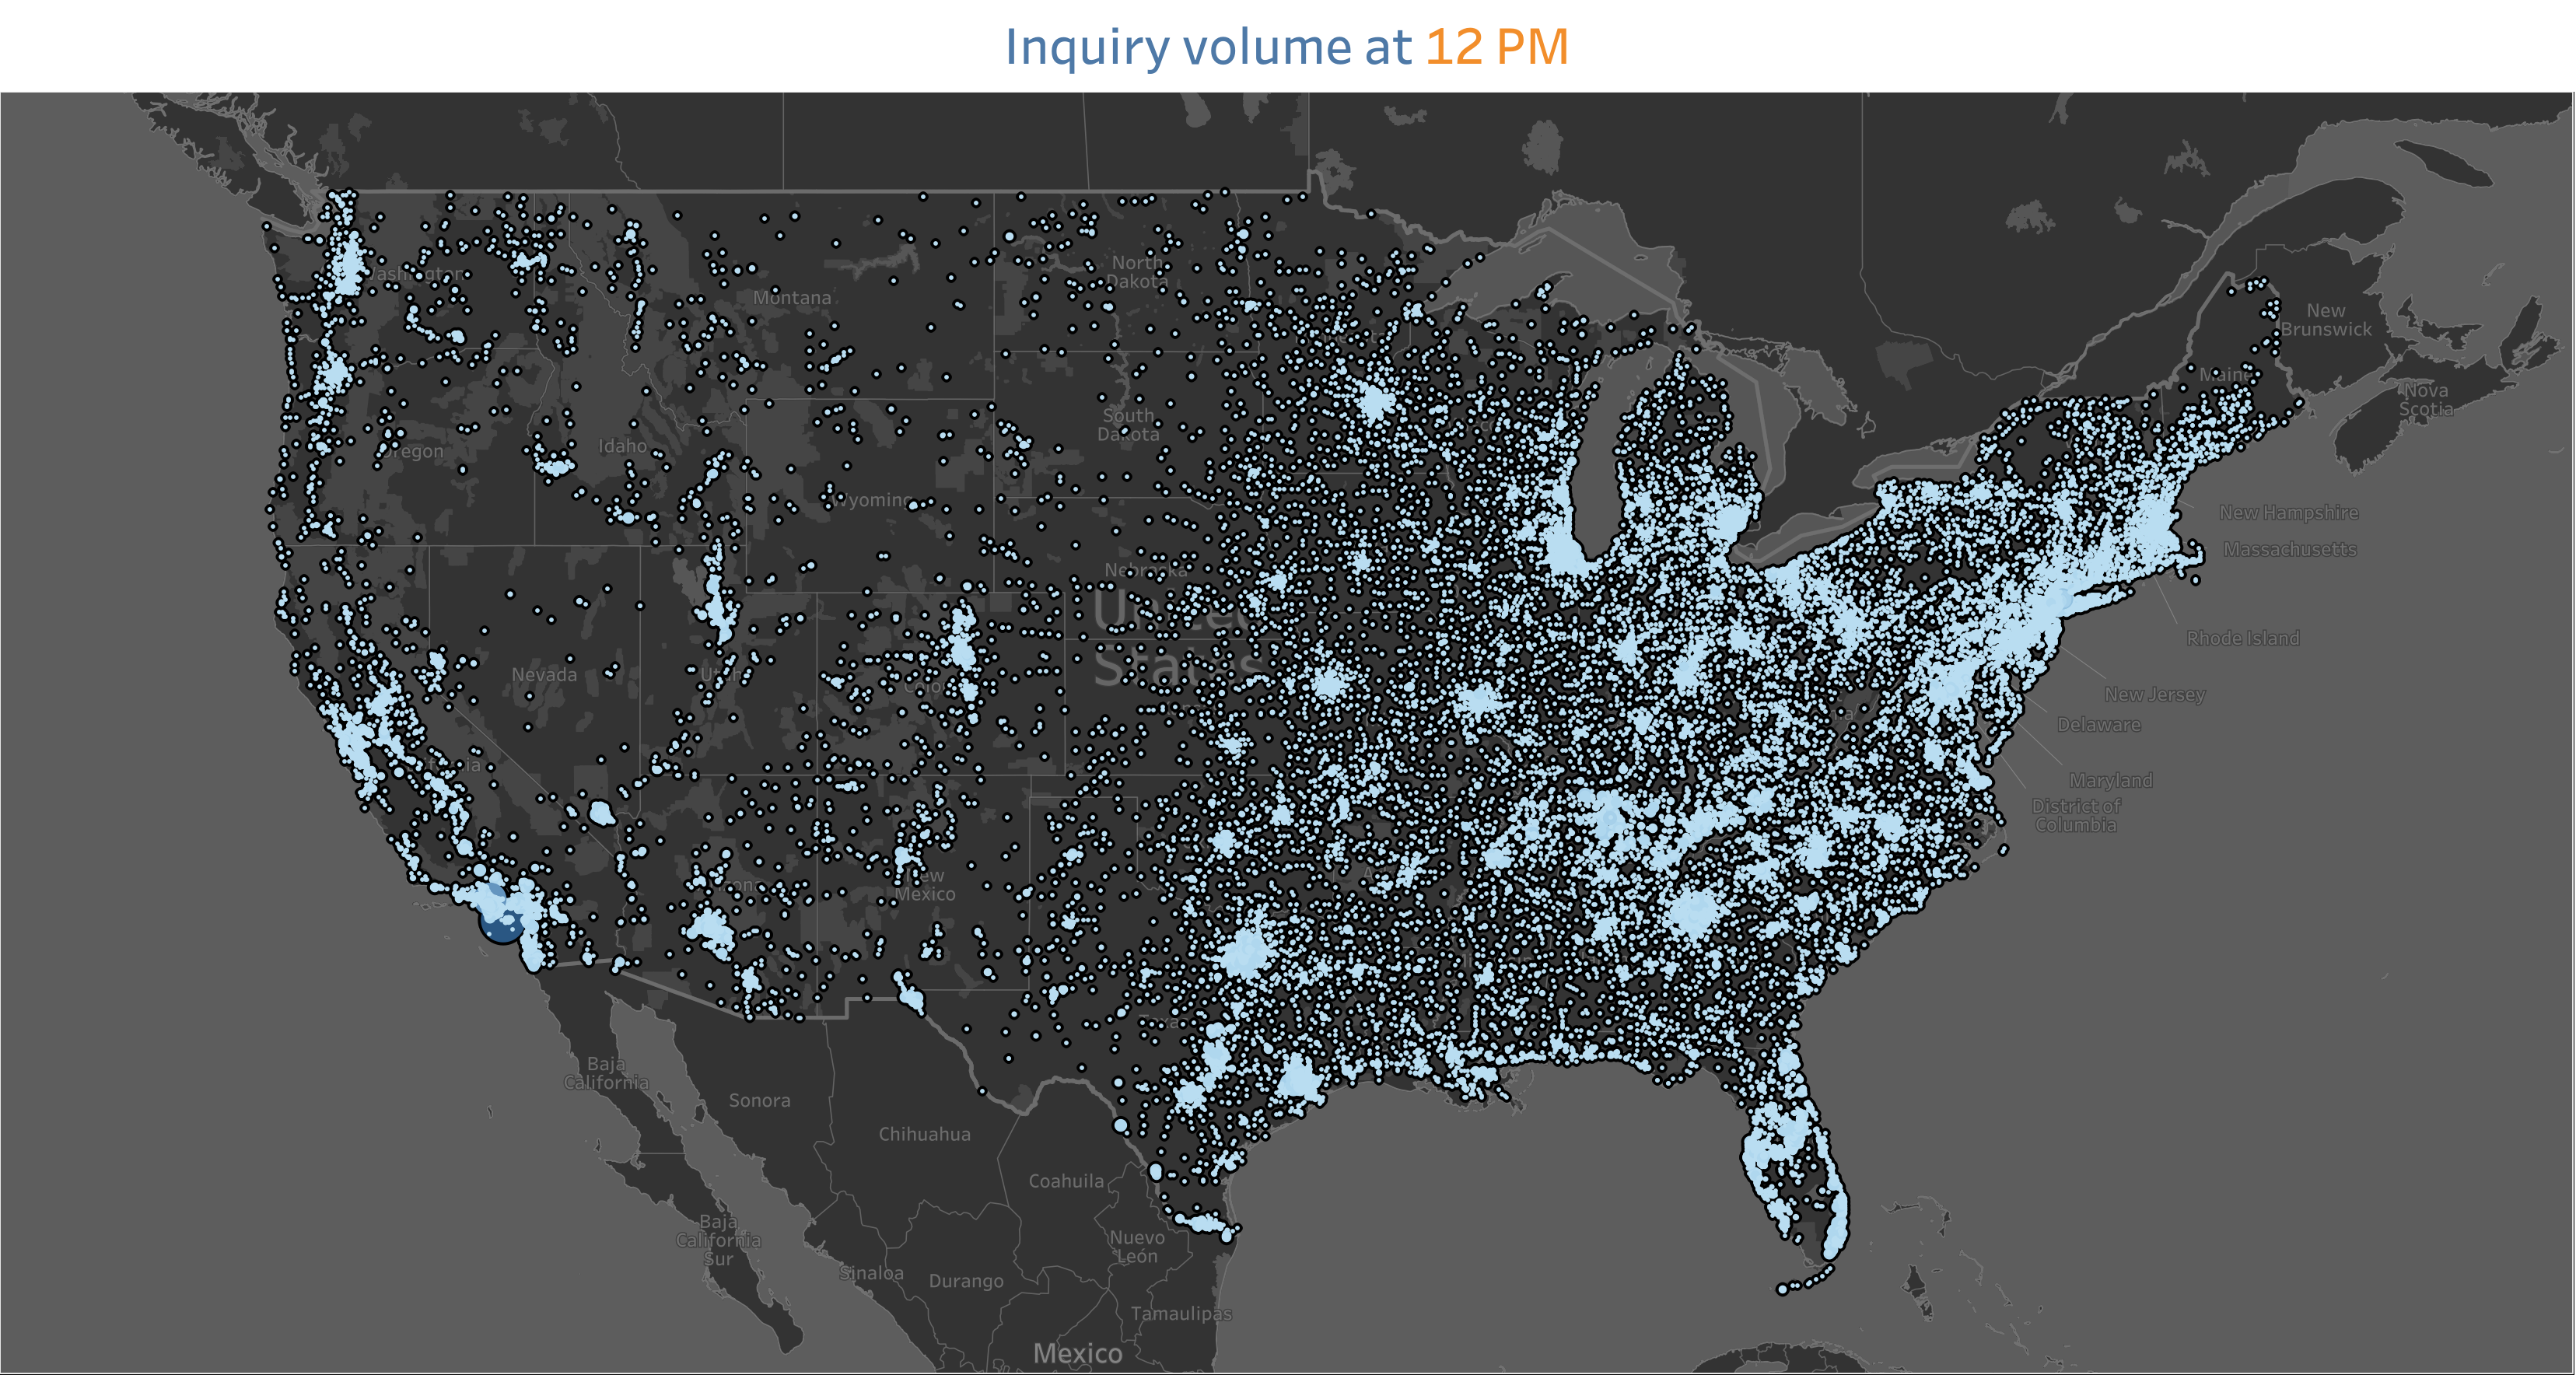

The dashboard page shown, as its layout file describes it:
{"tool":"tableau","page":{"name":"Dashboard 1","canvas":[1000,1000],"units":"permille","ordinal":0},"visuals":[{"type":"worksheet","title":"Sheet 1","mark":"Automatic","box":[4.7,8.8,990.6,982.3]},{"type":"currpage","title":"Sheet 1","box":[883,30.9,87.8,105]}]}

Visuals, with their boxes on the dashboard's canvas, which has no fixed pixel size, in thousandths of its width and height (x1, y1, x2, y2). These are canvas units, not pixel positions in the 2576x1375 screenshot, which may show the page scaled, cropped or inside an application window:
"Sheet 1" worksheet: box(5, 9, 995, 991)
"Sheet 1" currpage: box(883, 31, 971, 136)
